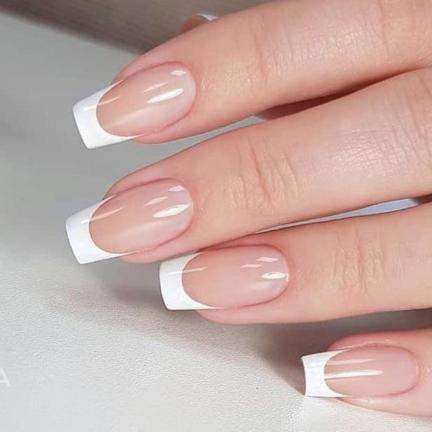Nail: (66, 179, 195, 264), (73, 61, 197, 149), (159, 244, 289, 310), (302, 347, 420, 397)
